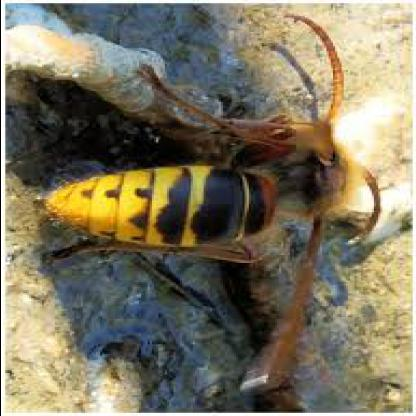european: (30, 16, 375, 390)
